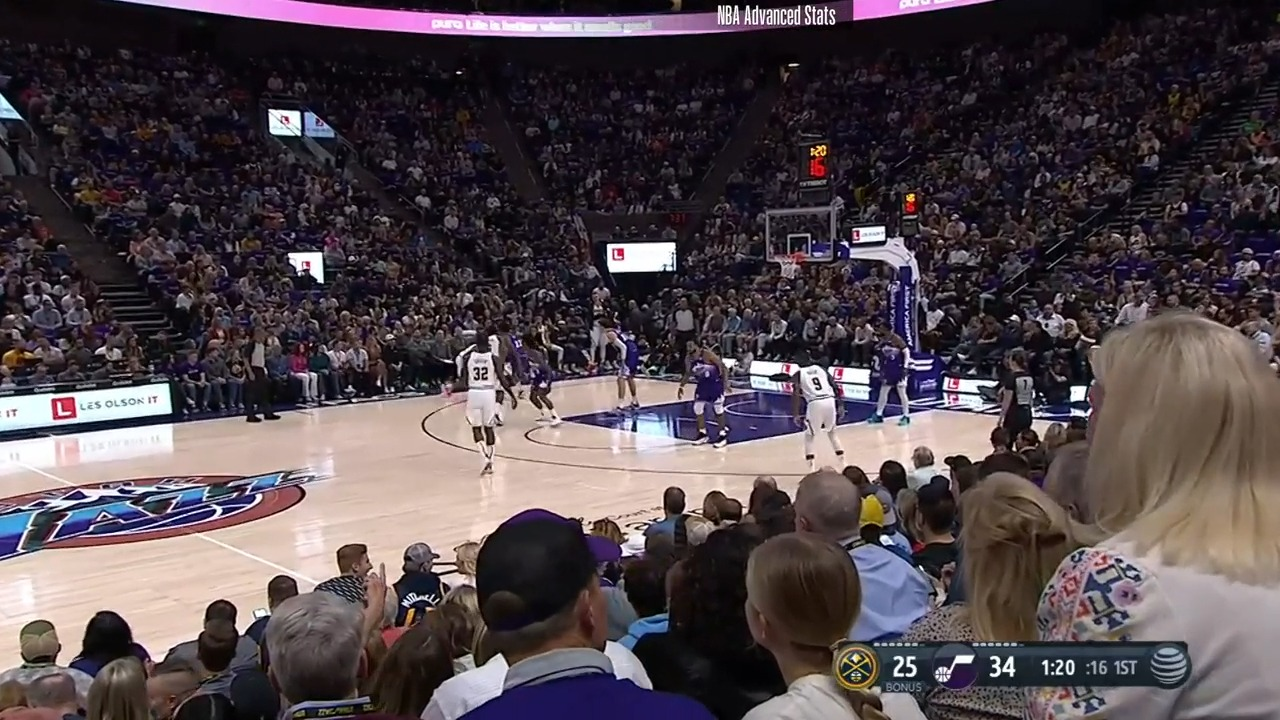net: (774, 251, 806, 278)
player: (454, 333, 513, 474), (791, 349, 846, 469), (679, 340, 735, 450), (868, 318, 916, 431), (602, 313, 644, 417), (522, 332, 565, 433)
referee: (240, 332, 274, 427), (669, 295, 705, 379)
